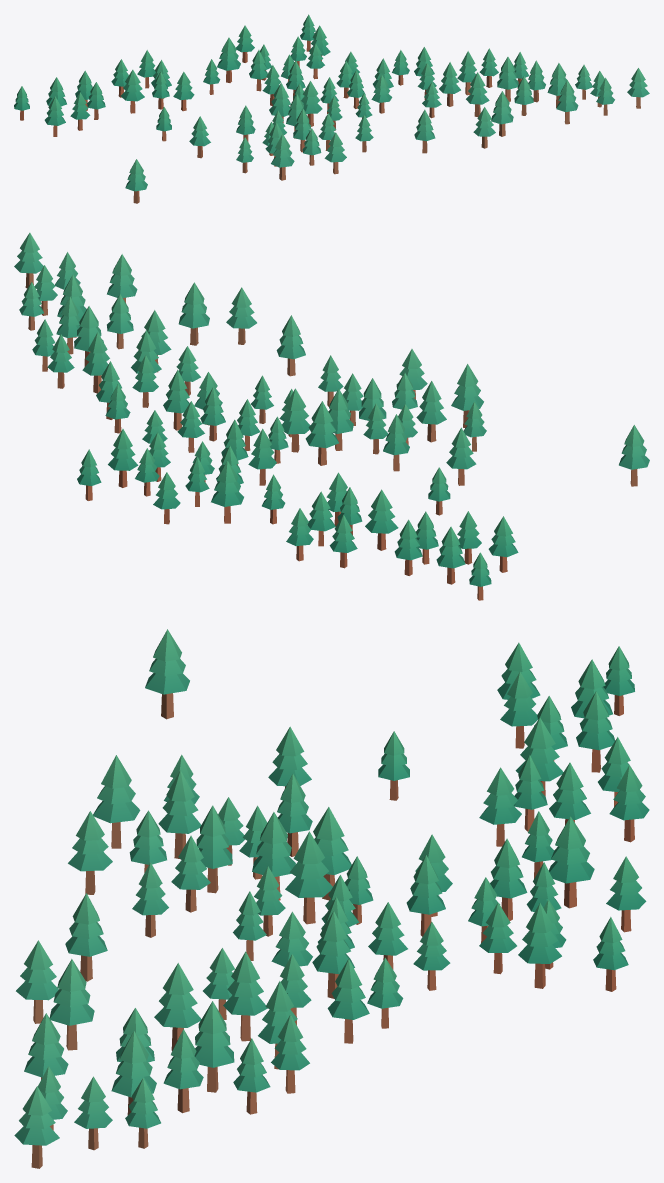
Rendered from forest_band_menu_far_L.fbx.
3 views of the same model, one above another, from view 1: azimuth 30°, elevation 25°; view 2: azimuth 150°, elevation 25°; view 3: azimuth 270°, elevation 25° (orthographic). The views are drawn at different scales.
Visible parts, largest first — view 1: forest_band_menu_far_L; view 2: forest_band_menu_far_L; view 3: forest_band_menu_far_L.
Part boxes in pixels (box(x1,y1,x2,y2)): forest_band_menu_far_L: box(14, 14, 649, 203); forest_band_menu_far_L: box(14, 232, 649, 600); forest_band_menu_far_L: box(14, 629, 649, 1168).
Size of the model in its own units: 60.46 by 5.64 by 34.02.
